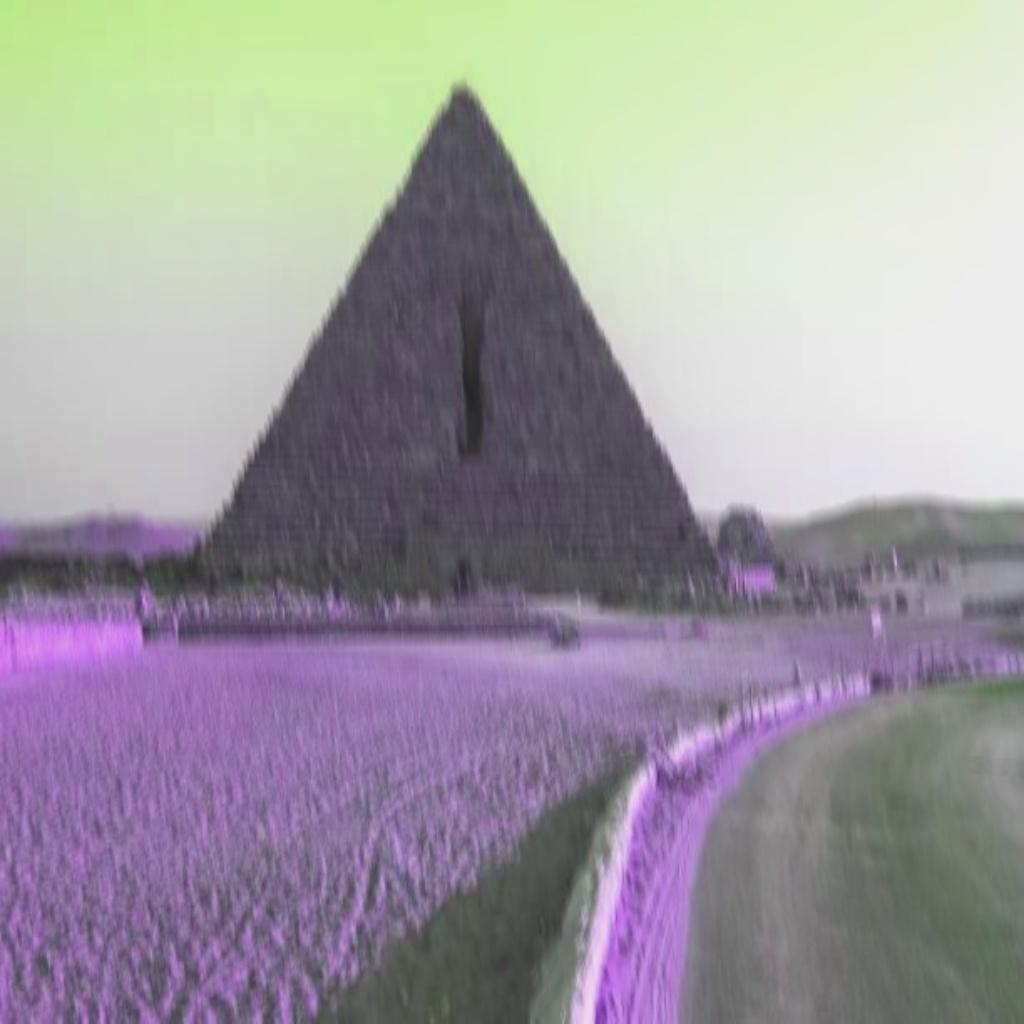Great Pyramids of Giza: (186, 78, 733, 608)
